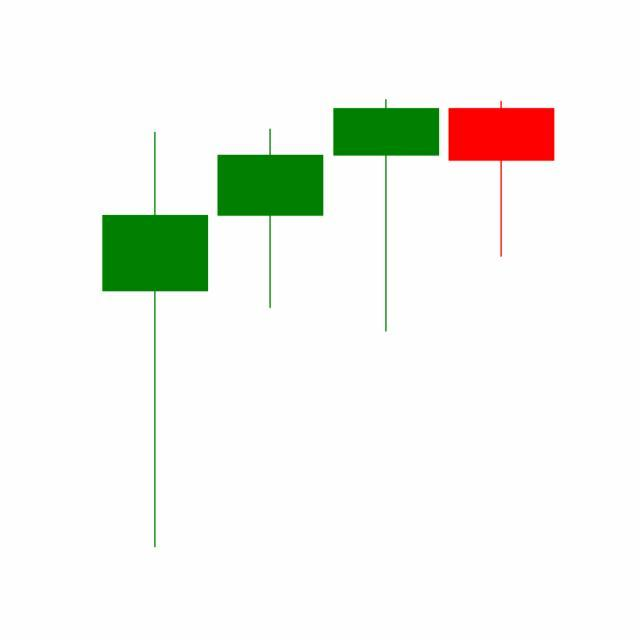Hammer: (329, 96, 445, 335)
